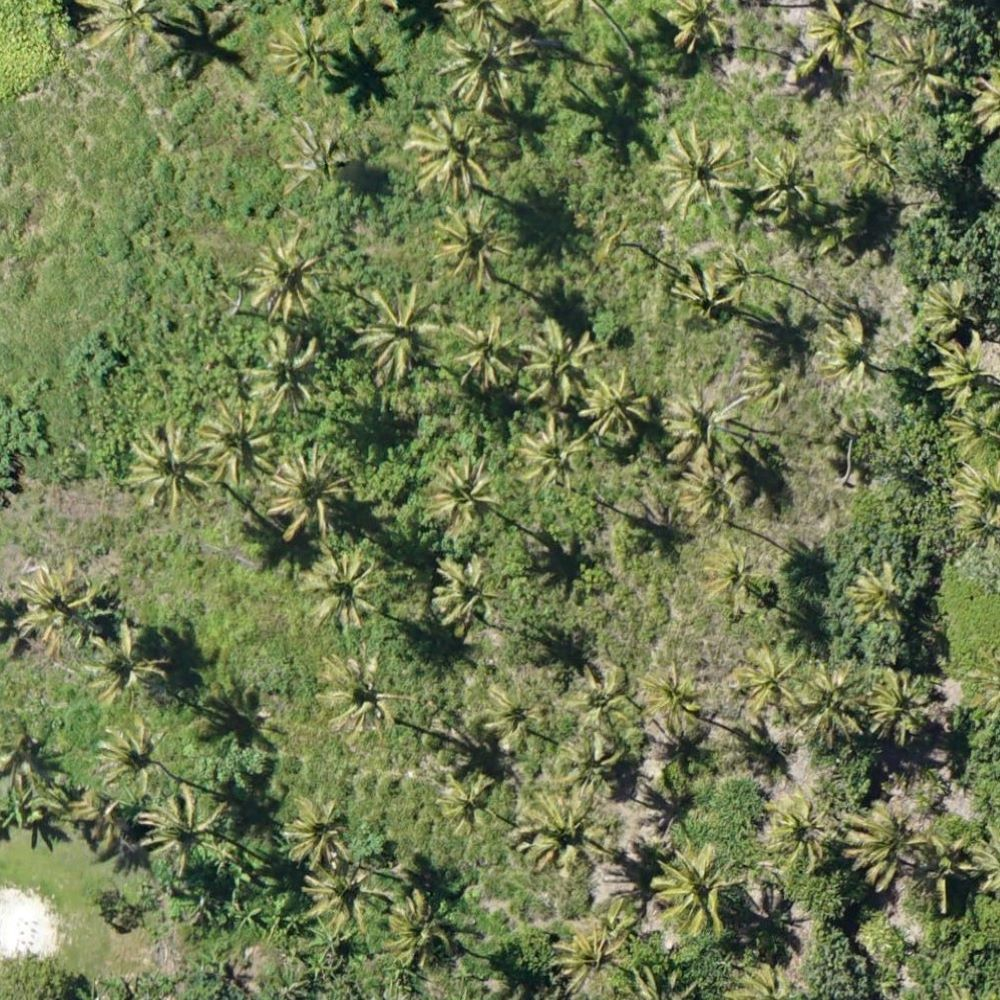not palm: (603, 295, 673, 364)
not plam: (912, 174, 989, 251), (7, 211, 82, 288), (124, 200, 201, 275), (8, 320, 85, 394), (814, 392, 886, 467), (172, 913, 248, 984), (2, 847, 73, 923), (2, 926, 76, 997), (124, 297, 196, 368), (14, 447, 86, 517), (829, 912, 904, 979), (151, 537, 221, 608), (127, 107, 201, 174), (606, 566, 681, 632), (929, 547, 997, 618), (6, 108, 69, 180), (5, 8, 68, 70)
